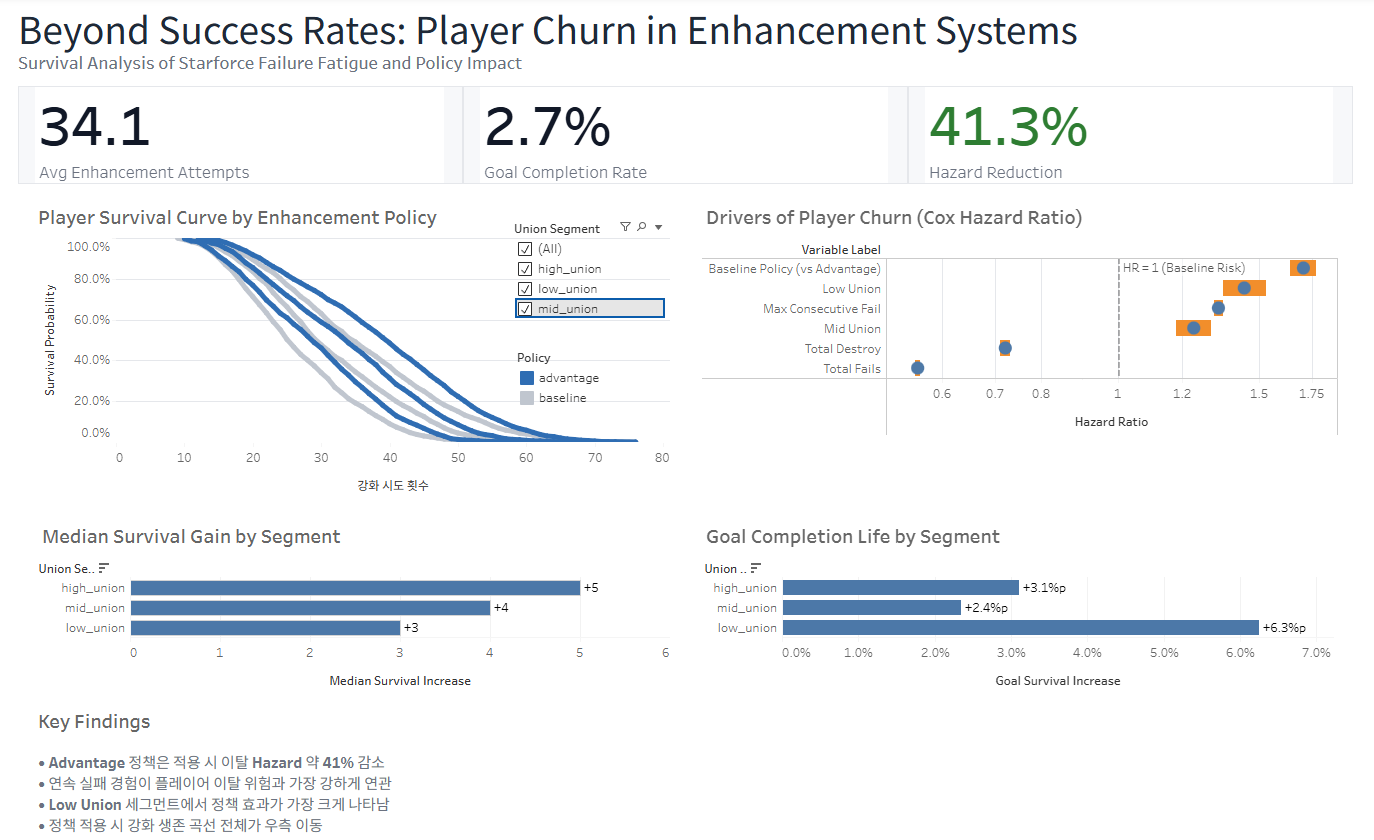

The page's visual inventory and layout, read from the dashboard file:
{"tool":"tableau","page":{"name":"dashboard","canvas":[1400,900],"ordinal":0},"visuals":[{"type":"text","box":[32,28,1336,68]},{"type":"worksheet","title":"KPI - Avg Duration","mark":"Automatic","box":[49,109,411,96]},{"type":"worksheet","title":"KPI - Goal Rate","mark":"Automatic","box":[494,109,411,96]},{"type":"worksheet","title":"KPI - Hazard Reduction","mark":"Automatic","box":[939,109,411,96]},{"type":"worksheet","title":"Kaplan-Meier Survival Curve","mark":"Line","rows":["survival_probability"],"cols":["tries_until_dropout"],"box":[48,218,652,303]},{"type":"worksheet","title":"Cox Variable Hazard Ratio","mark":"Circle","rows":["Calculation_2506931324092417"],"cols":["lower_ci","hazard_ratio"],"box":[700,218,652,303]},{"type":"filter","title":"Kaplan-Meier Survival Curve","param":"[federated.1nmqiko0oazznb1c2hz4v0sp02r7].[none:union_segment:nk]","box":[528,241,152,125]},{"type":"legend","title":"Kaplan-Meier Survival Curve","param":"[federated.1nmqiko0oazznb1c2hz4v0sp02r7].[none:policy:nk]","box":[528,366,152,58]},{"type":"worksheet","title":"Median Survival Gain by Segment","mark":"Bar","rows":["union_segment"],"cols":["Calculation_1892579503026186"],"box":[48,533,652,188]},{"type":"worksheet","title":"Goal Completion Life by Segment","mark":"Bar","rows":["union_segment"],"cols":["Calculation_1892579507154957"],"box":[700,533,652,188]},{"type":"text","box":[48,729,1304,127]}]}

Visuals, with their boxes on the page's 1400x900 design canvas (x1, y1, x2, y2). These are canvas units, not pixel positions in the 1374x840 screenshot, which may show the page scaled, cropped or inside an application window:
text: {"x1": 32, "y1": 28, "x2": 1368, "y2": 96}
"KPI - Avg Duration" worksheet: {"x1": 49, "y1": 109, "x2": 460, "y2": 205}
"KPI - Goal Rate" worksheet: {"x1": 494, "y1": 109, "x2": 905, "y2": 205}
"KPI - Hazard Reduction" worksheet: {"x1": 939, "y1": 109, "x2": 1350, "y2": 205}
"Kaplan-Meier Survival Curve" worksheet (Line marks): {"x1": 48, "y1": 218, "x2": 700, "y2": 521}
"Cox Variable Hazard Ratio" worksheet (Circle marks): {"x1": 700, "y1": 218, "x2": 1352, "y2": 521}
"Kaplan-Meier Survival Curve" filter: {"x1": 528, "y1": 241, "x2": 680, "y2": 366}
"Kaplan-Meier Survival Curve" legend: {"x1": 528, "y1": 366, "x2": 680, "y2": 424}
"Median Survival Gain by Segment" worksheet (Bar marks): {"x1": 48, "y1": 533, "x2": 700, "y2": 721}
"Goal Completion Life by Segment" worksheet (Bar marks): {"x1": 700, "y1": 533, "x2": 1352, "y2": 721}
text: {"x1": 48, "y1": 729, "x2": 1352, "y2": 856}
